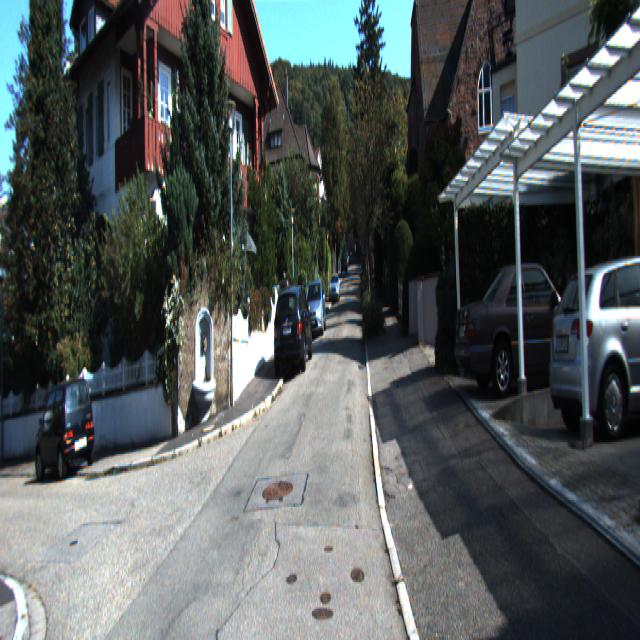Car: (456, 249, 606, 398), (545, 246, 640, 444), (35, 370, 96, 499), (274, 280, 312, 377), (305, 276, 326, 335), (329, 272, 341, 300)
